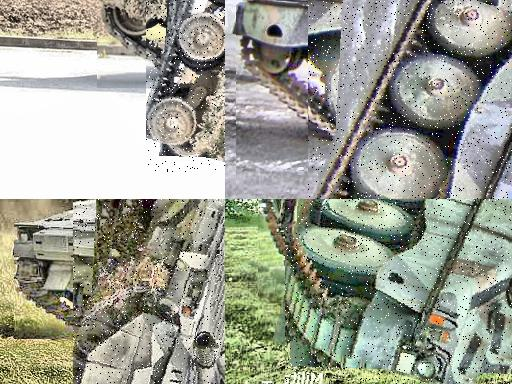tanks: (286, 200, 512, 384), (321, 1, 512, 200), (74, 200, 226, 384), (147, 1, 226, 162)
